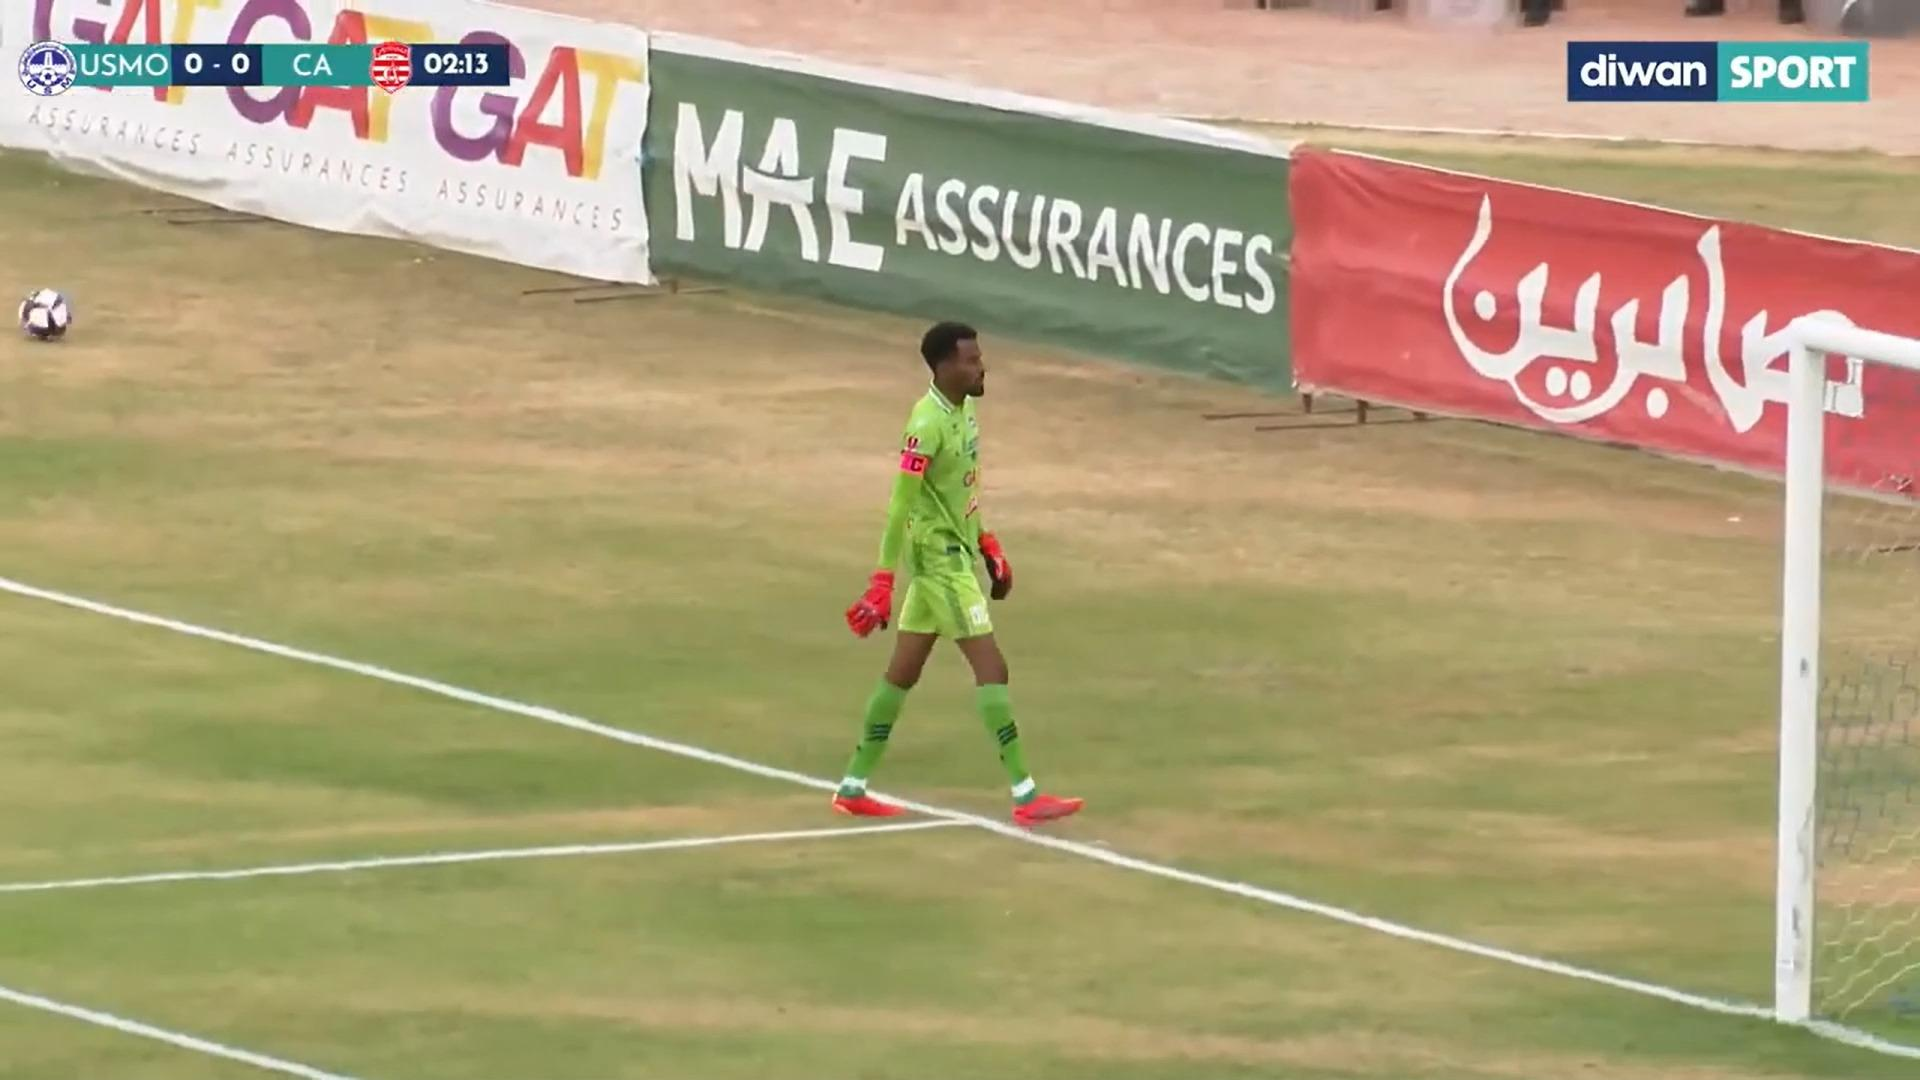goalkeeper: (811, 274, 1130, 880)
